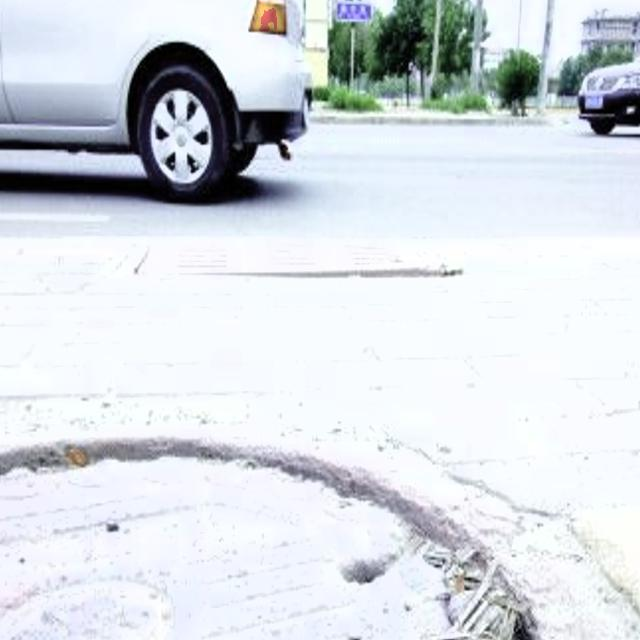circle: (5, 398, 640, 640)
